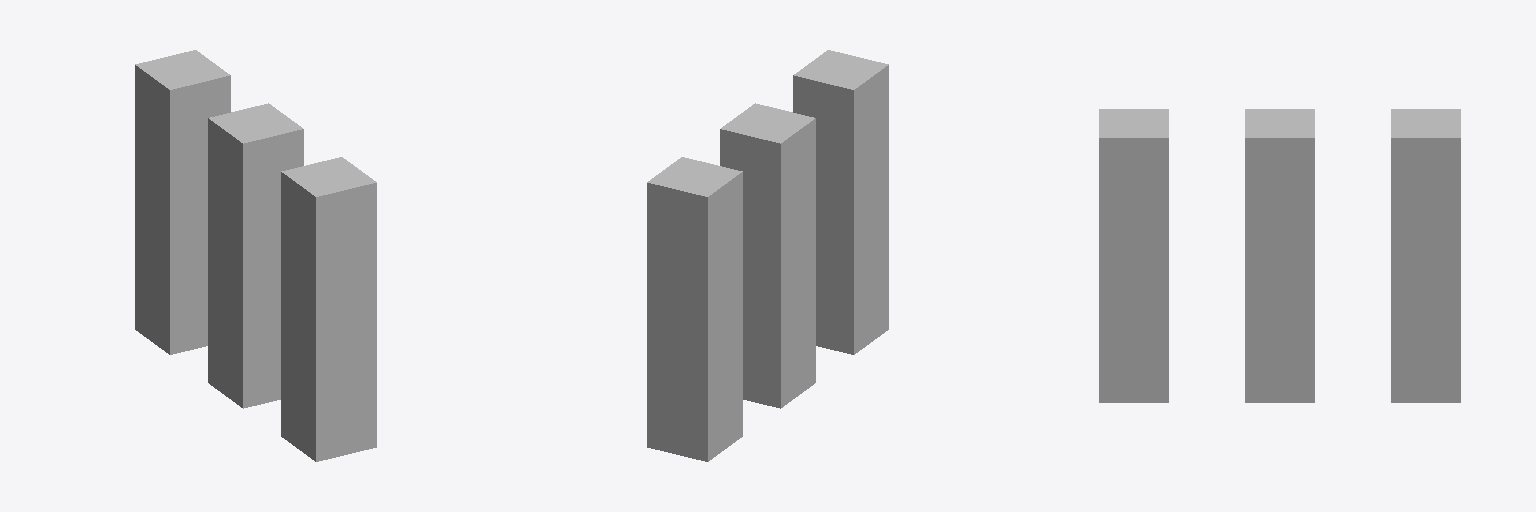
Rendered from Obstacle.obj.
3 views of the same model, side by side, from view 1: azimuth 30°, elevation 25°; view 2: azimuth 150°, elevation 25°; view 3: azimuth 270°, elevation 25° (orthographic).
Parts seen in each view (by area): view 1: Cube.003_Cube.004; view 2: Cube.003_Cube.004; view 3: Cube.003_Cube.004.
Part boxes in pixels (x1,y1,x2,y2): Cube.003_Cube.004: (135, 50, 376, 461); Cube.003_Cube.004: (647, 50, 888, 461); Cube.003_Cube.004: (1099, 109, 1460, 402).
Size of the model in its own units: 0.48 by 2 by 2.48.